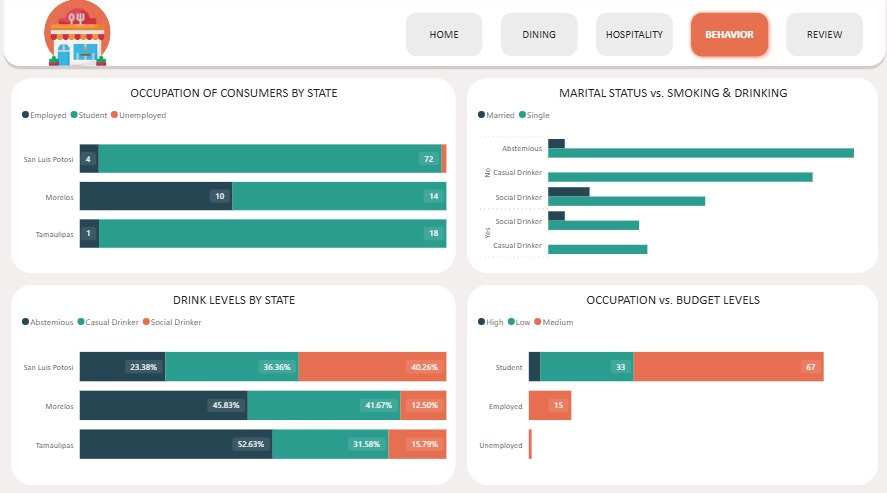

This screenshot's page, from the dashboard's own definition file:
{"tool":"powerbi","page":{"name":"BEHAVIOR","canvas":[1280,720],"ordinal":3},"visuals":[{"type":"hundredPercentStackedBarChart","title":"OCCUPATION OF CONSUMERS BY STATE","fields":{"Y":["CountNonNull(consumers.Consumer_ID)"],"Category":["consumers.State"],"Series":["consumers.Occupation"]},"box":[15.9,118.7,640.1,281.3],"z":0},{"type":"clusteredBarChart","title":"MARITAL STATUS vs. SMOKING & DRINKING","fields":{"Category":["consumers.Smoker","consumers.Drink_Level"],"Y":["CountNonNull(consumers.Consumer_ID)"],"Series":["consumers.Marital_Status"]},"box":[672,118.7,591.8,281.3],"z":1000},{"type":"hundredPercentStackedBarChart","title":"DRINK LEVELS BY STATE","fields":{"Y":["CountNonNull(consumers.Consumer_ID)"],"Series":["consumers.Drink_Level"],"Category":["consumers.State"]},"box":[16,416,640,288],"z":2000},{"type":"barChart","title":"OCCUPATION vs. BUDGET LEVELS","fields":{"Category":["consumers.Occupation"],"Y":["CountNonNull(consumers.Consumer_ID)"],"Series":["consumers.Budget"]},"box":[672,416,592,288],"z":3000},{"type":"shape","box":[0,0,1280.5,105.9],"z":4000},{"type":"pageNavigator","box":[576,15.5,677.6,79.1],"z":5000},{"type":"shape","box":[63.7,4.4,96.2,96.7],"z":6000},{"type":"image","box":[56,9.3,111.5,101.1],"z":7000}]}

Visuals, with their boxes in screenshot pixels (x1, y1, x2, y2), scaled from the page's 1280x720 canvas onto the 887x493 screenshot:
"OCCUPATION OF CONSUMERS BY STATE" hundredPercentStackedBarChart: rect(11, 81, 455, 274)
"MARITAL STATUS vs. SMOKING & DRINKING" clusteredBarChart: rect(466, 81, 876, 274)
"DRINK LEVELS BY STATE" hundredPercentStackedBarChart: rect(11, 285, 455, 482)
"OCCUPATION vs. BUDGET LEVELS" barChart: rect(466, 285, 876, 482)
shape: rect(0, 0, 886, 73)
pageNavigator: rect(399, 11, 869, 65)
shape: rect(44, 3, 111, 69)
image: rect(39, 6, 116, 76)
